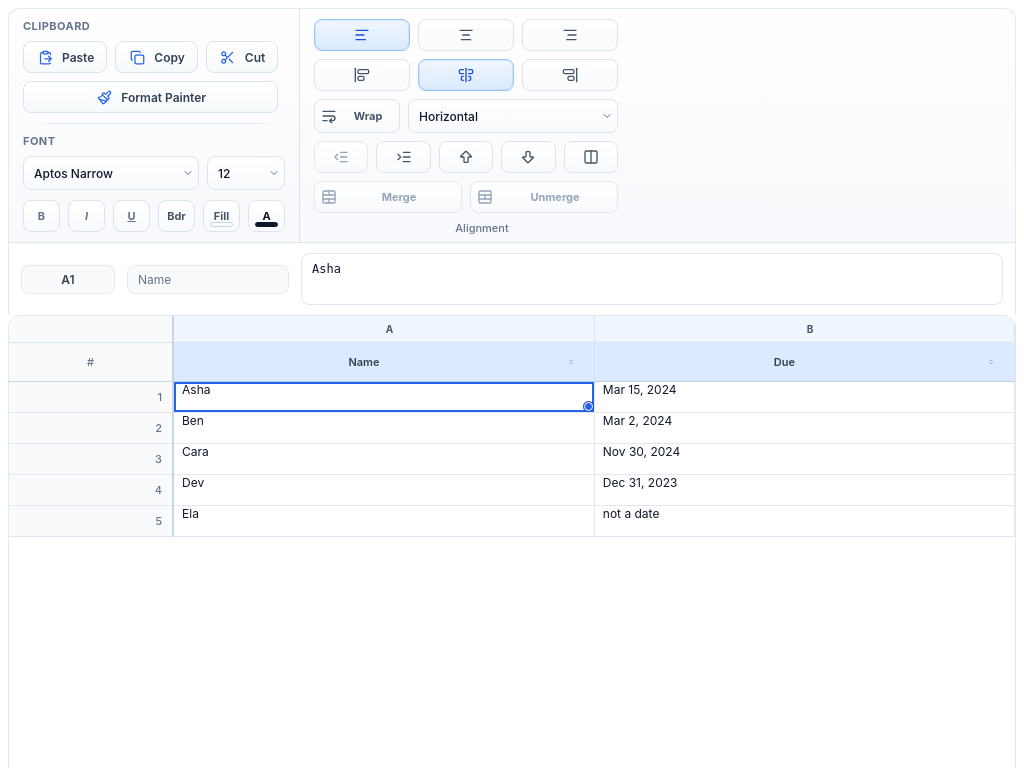
Test: column menu expanders › starts collapsed and toggles Sort / Filter / More with correct aria-expanded
Click the button named "Open column options for Name".
click(571, 362)  # box [561,352,581,372]
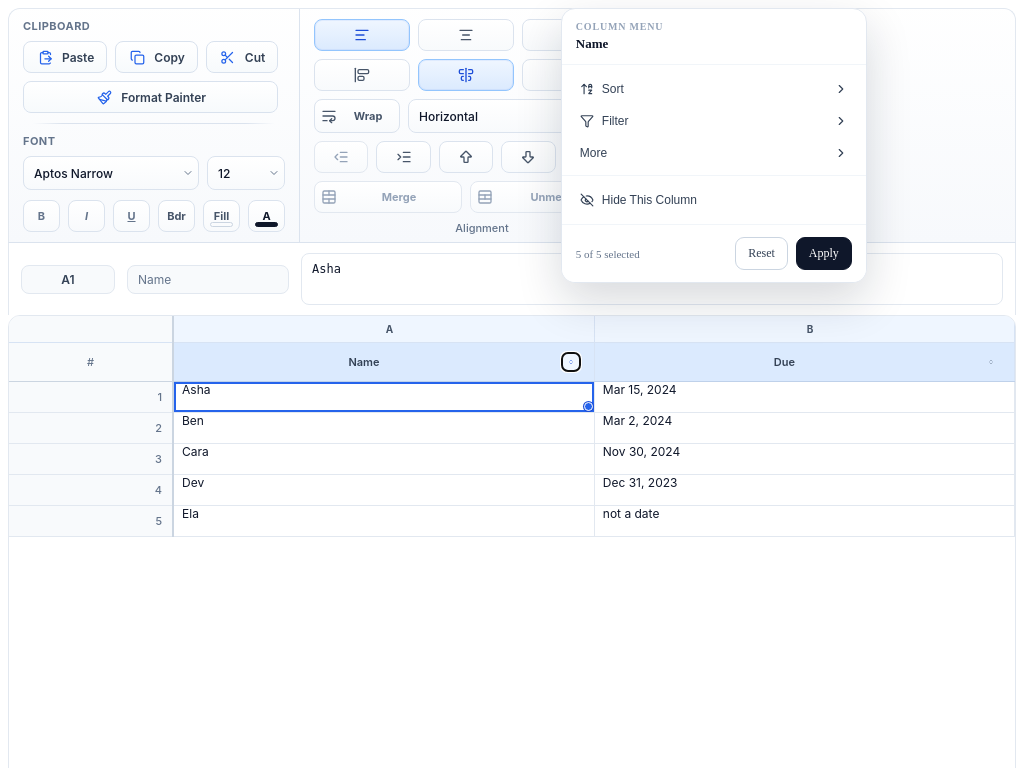
Expected: the button "Sort A to Z" is not shown
Expected: the button "Auto-fit Width" is not shown
Click the button "Sort".
click(587, 89)  # box [570,73,858,105]
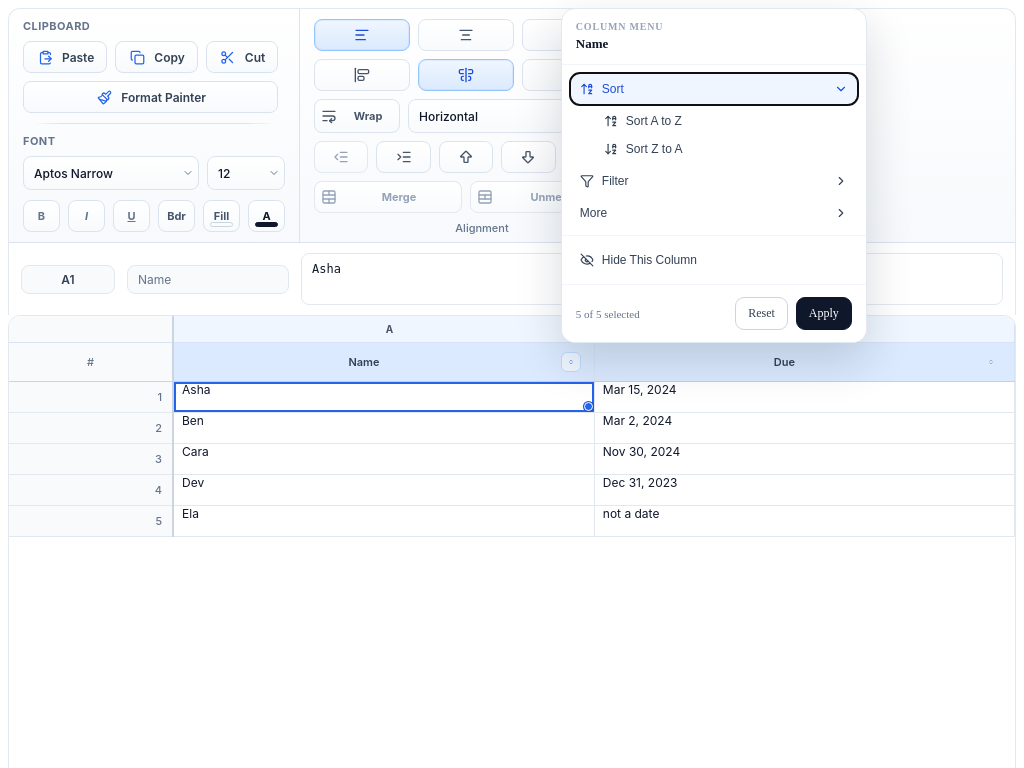
Now the button "Sort" is expanded
Now the button "Sort A to Z" is shown, box [594,107,858,135]
Click the button "Sort".
click(587, 89)  # box [570,73,858,105]
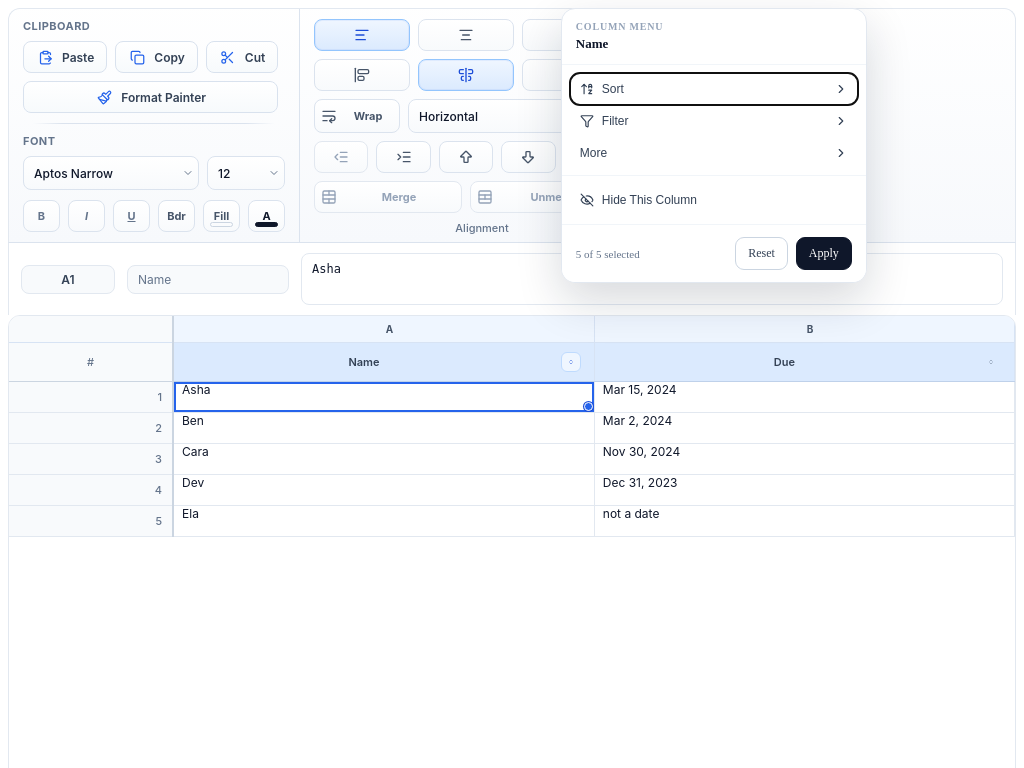
Now the button "Sort" is collapsed, box [570,73,858,105]
Now the button "Sort A to Z" is gone
Click the button "More".
click(593, 153)  # box [570,137,858,169]
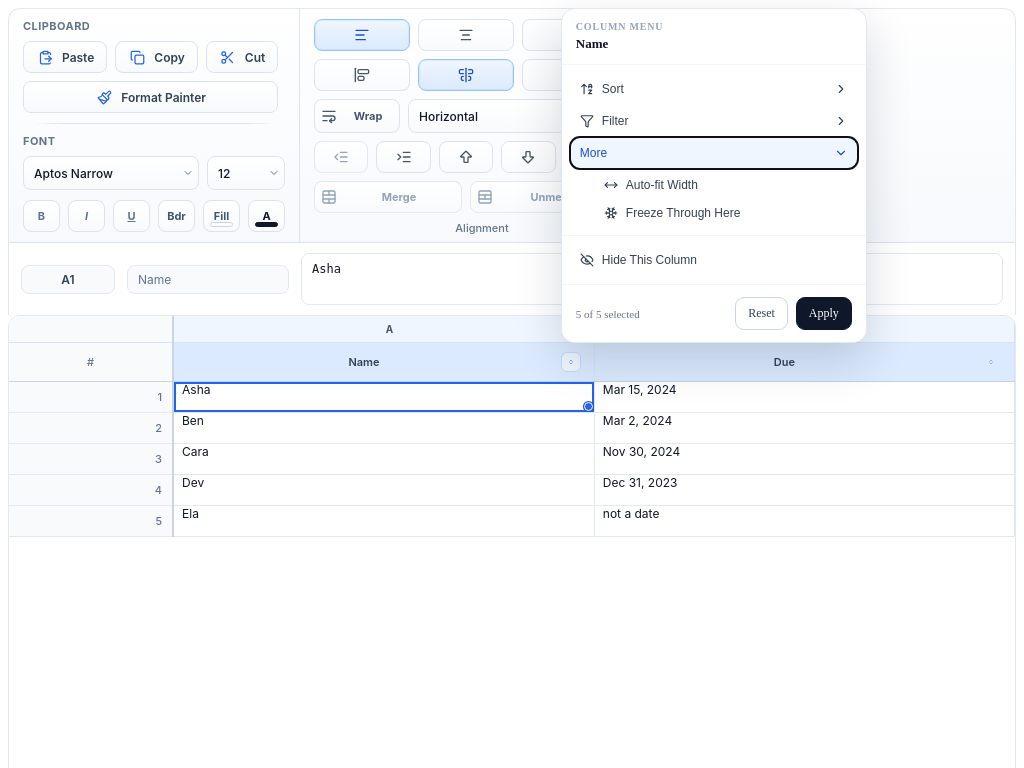
Now the button "More" is expanded, box [570,137,858,169]
Now the button "Auto-fit Width" is shown, box [594,171,858,199]
Now the button "Freeze Through Here" is shown, box [594,199,858,227]
Click the button "Filter".
click(587, 121)  # box [570,105,858,137]
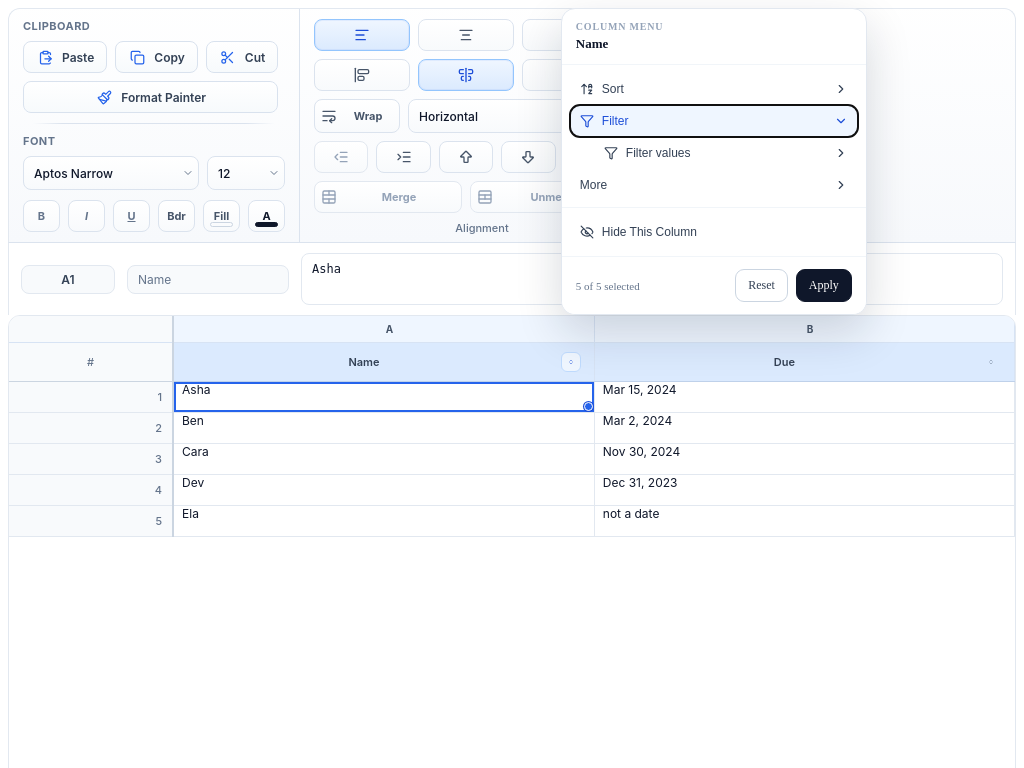
Now the button "Filter" is expanded, box [570,105,858,137]
Now the button "More" is collapsed, box [570,169,858,201]
Now the button "Filter values" is shown, box [594,139,858,167]
